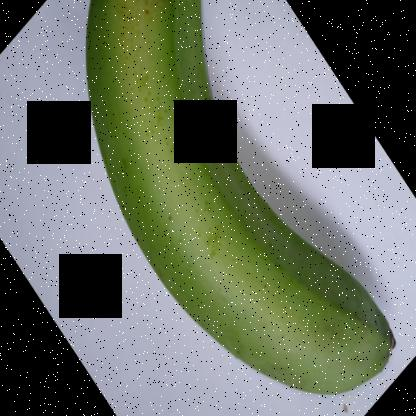freshunripe: (71, 0, 404, 404)
